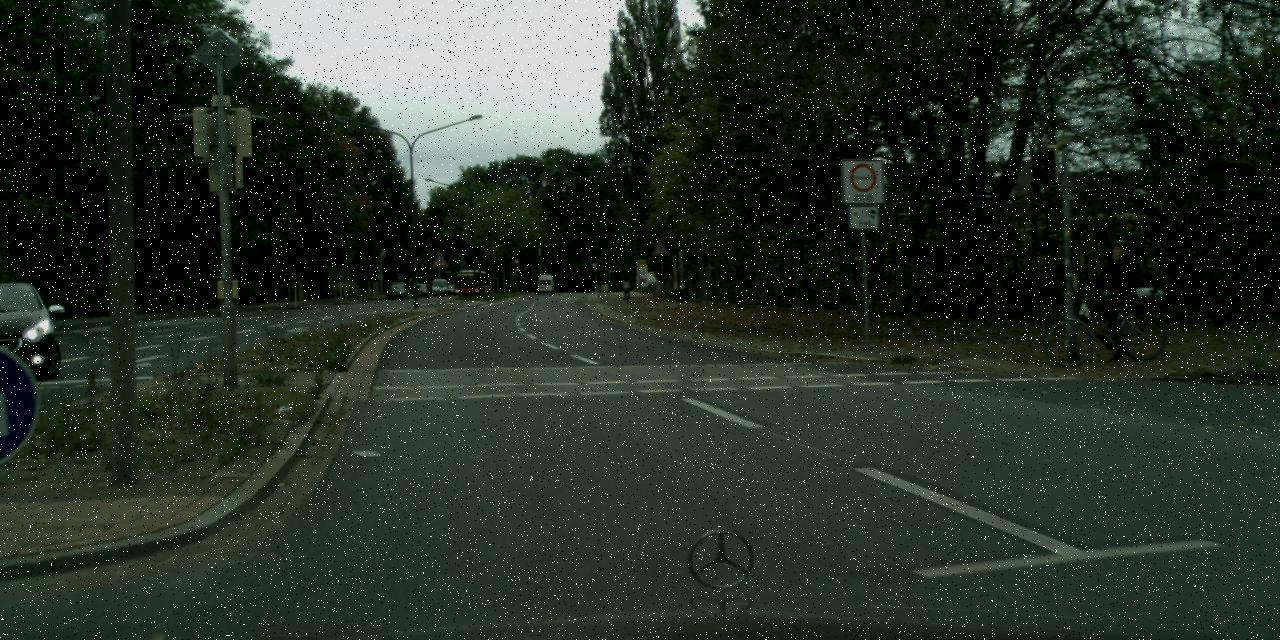ped: (1095, 240, 1138, 346), (622, 275, 632, 297)
